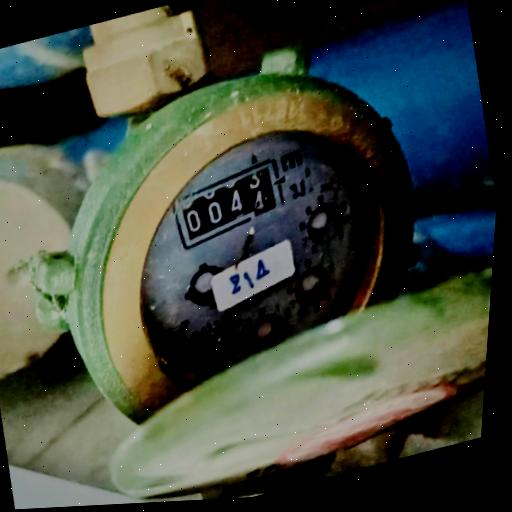0: (195, 186, 234, 233), (176, 195, 212, 241)
4: (240, 165, 281, 217), (218, 176, 256, 222)
border_water_meter_number: (161, 153, 297, 253)
